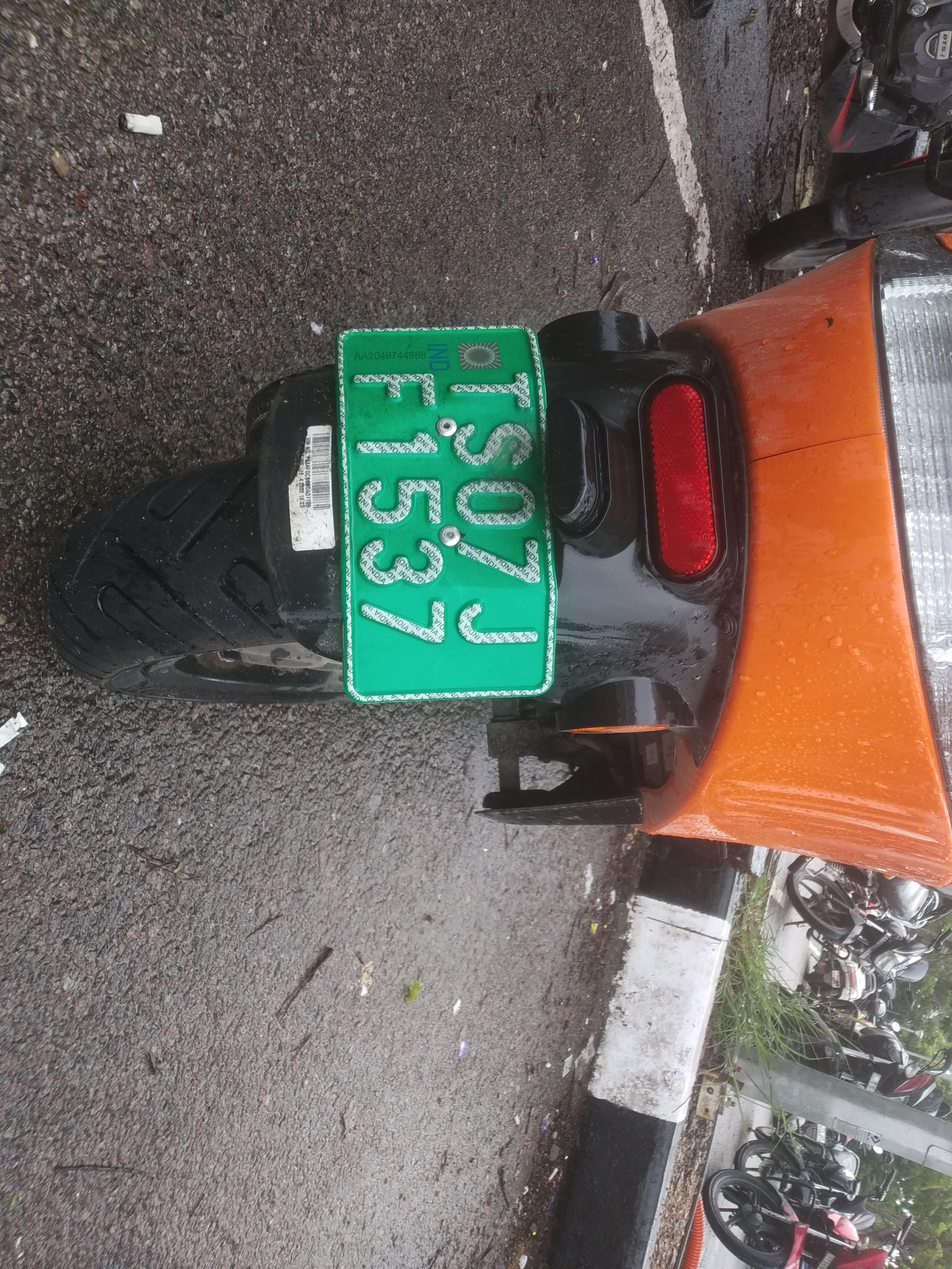green license plate: (338, 316, 560, 708)
